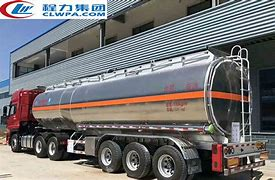oil truck: (1, 40, 268, 176)
